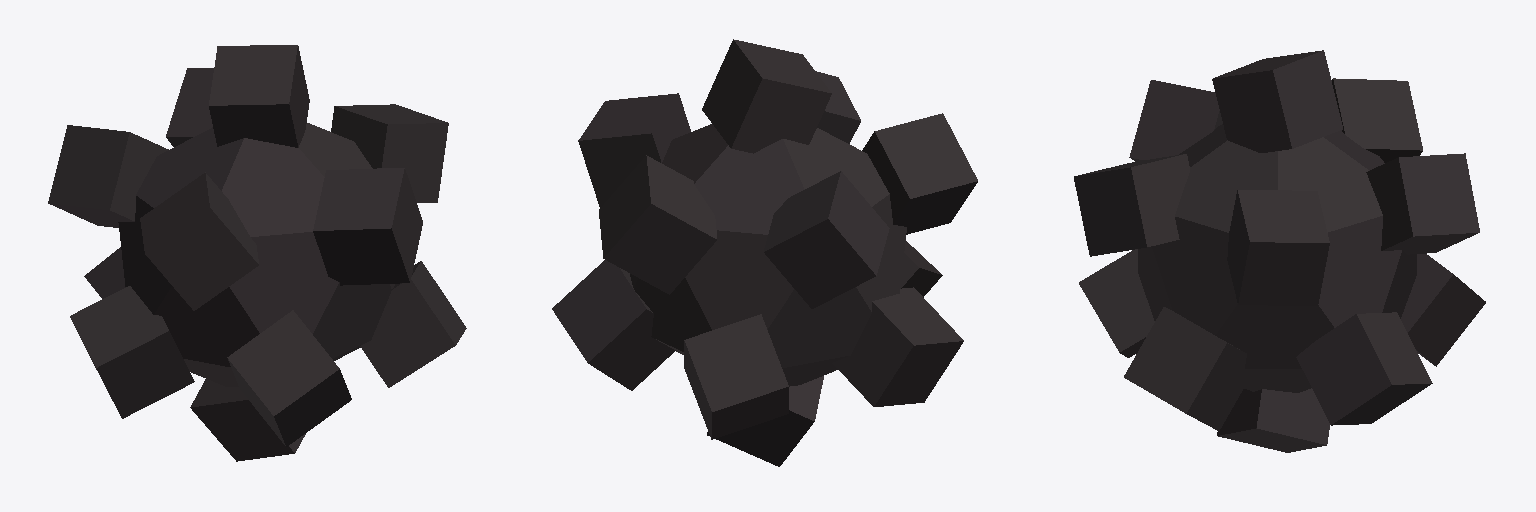
The model's file is asteroid.obj.
The picture shows the model from 3 angles: view 1: azimuth 30°, elevation 25°; view 2: azimuth 150°, elevation 25°; view 3: azimuth 270°, elevation 25°; orthographic projection.
Visible parts, largest first — view 1: asteroid.001_Icosphere; view 2: asteroid.001_Icosphere; view 3: asteroid.001_Icosphere.
Boxes of the visible parts, x1,y1,x2,y2 form: asteroid.001_Icosphere: [48, 45, 466, 461]; asteroid.001_Icosphere: [552, 39, 977, 466]; asteroid.001_Icosphere: [1074, 50, 1485, 452].
Size of the model in its own units: 2.51 by 2.76 by 2.52.